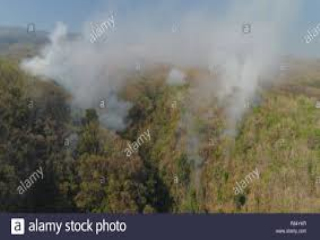smoke: (165, 21, 276, 166), (20, 29, 148, 135)
